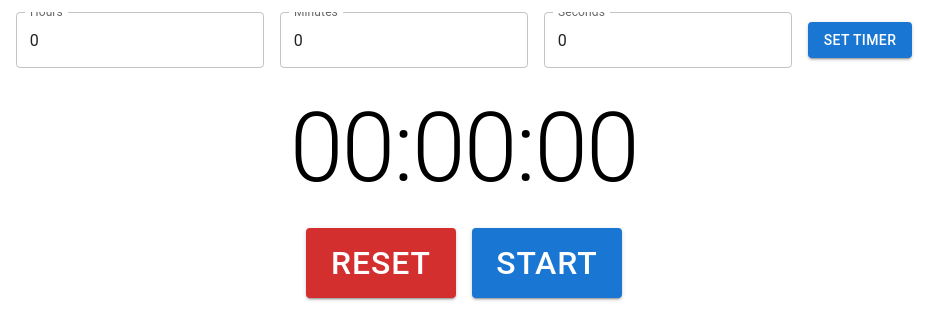
TimerDisplay component - extended tests › shows 'Pause' after clicking 'Start'
Replace the text in the number field labelled "Seconds" with "5" at point(668, 40), box [544,12,792,68]
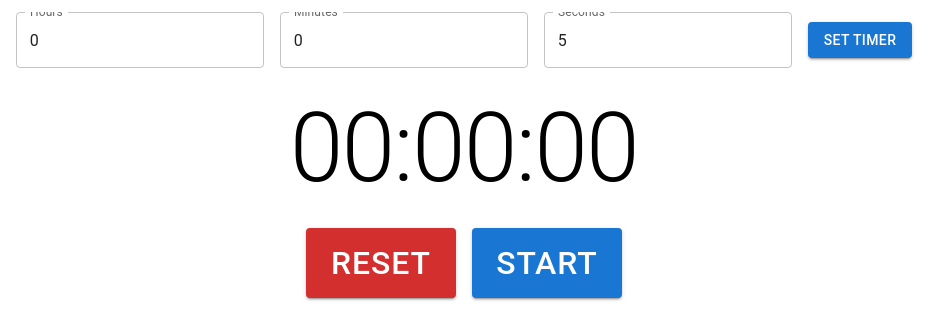
Click the button "Set Timer".
click(860, 40)  # box [808,22,912,58]
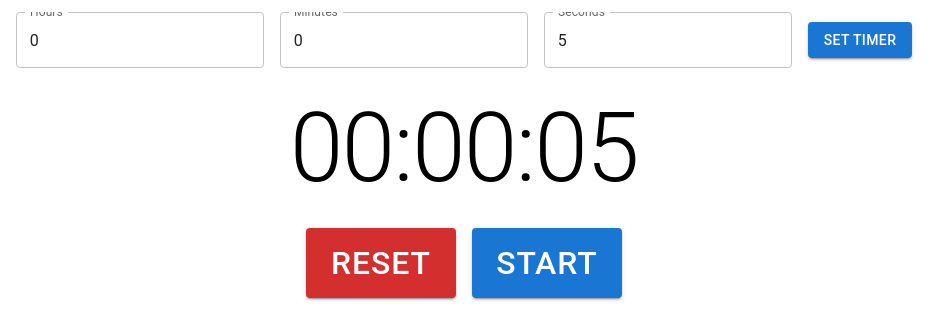
Click the button "Start".
click(547, 263)  # box [472,228,622,298]
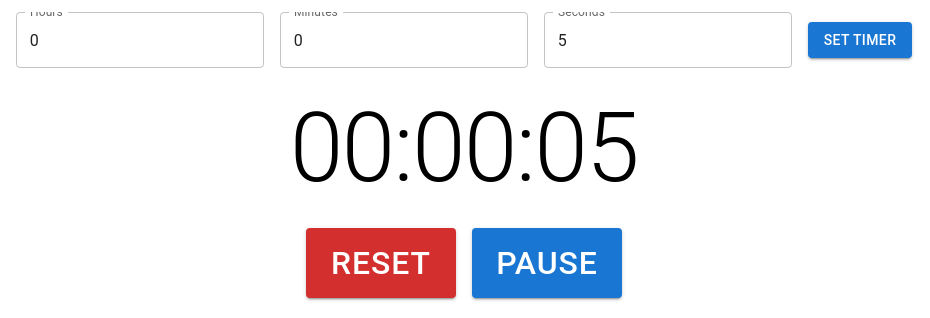
Now the button "Pause" is shown, box [472,228,622,298]
